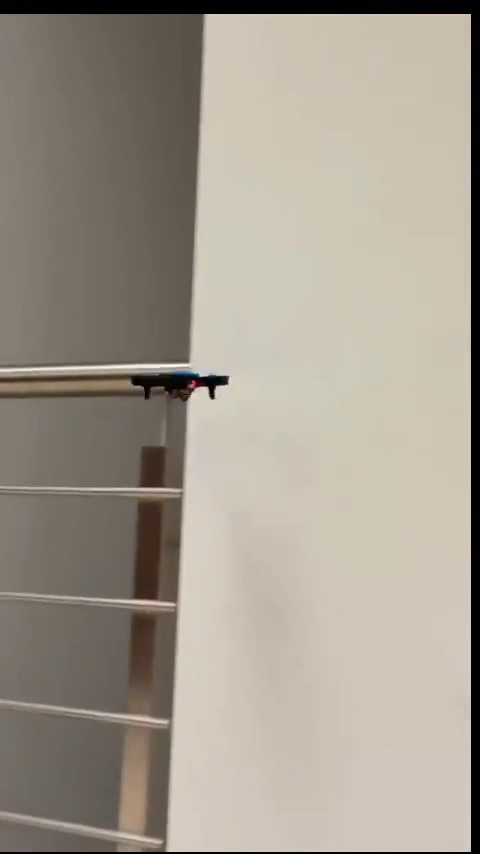drone: (132, 365, 234, 409)
